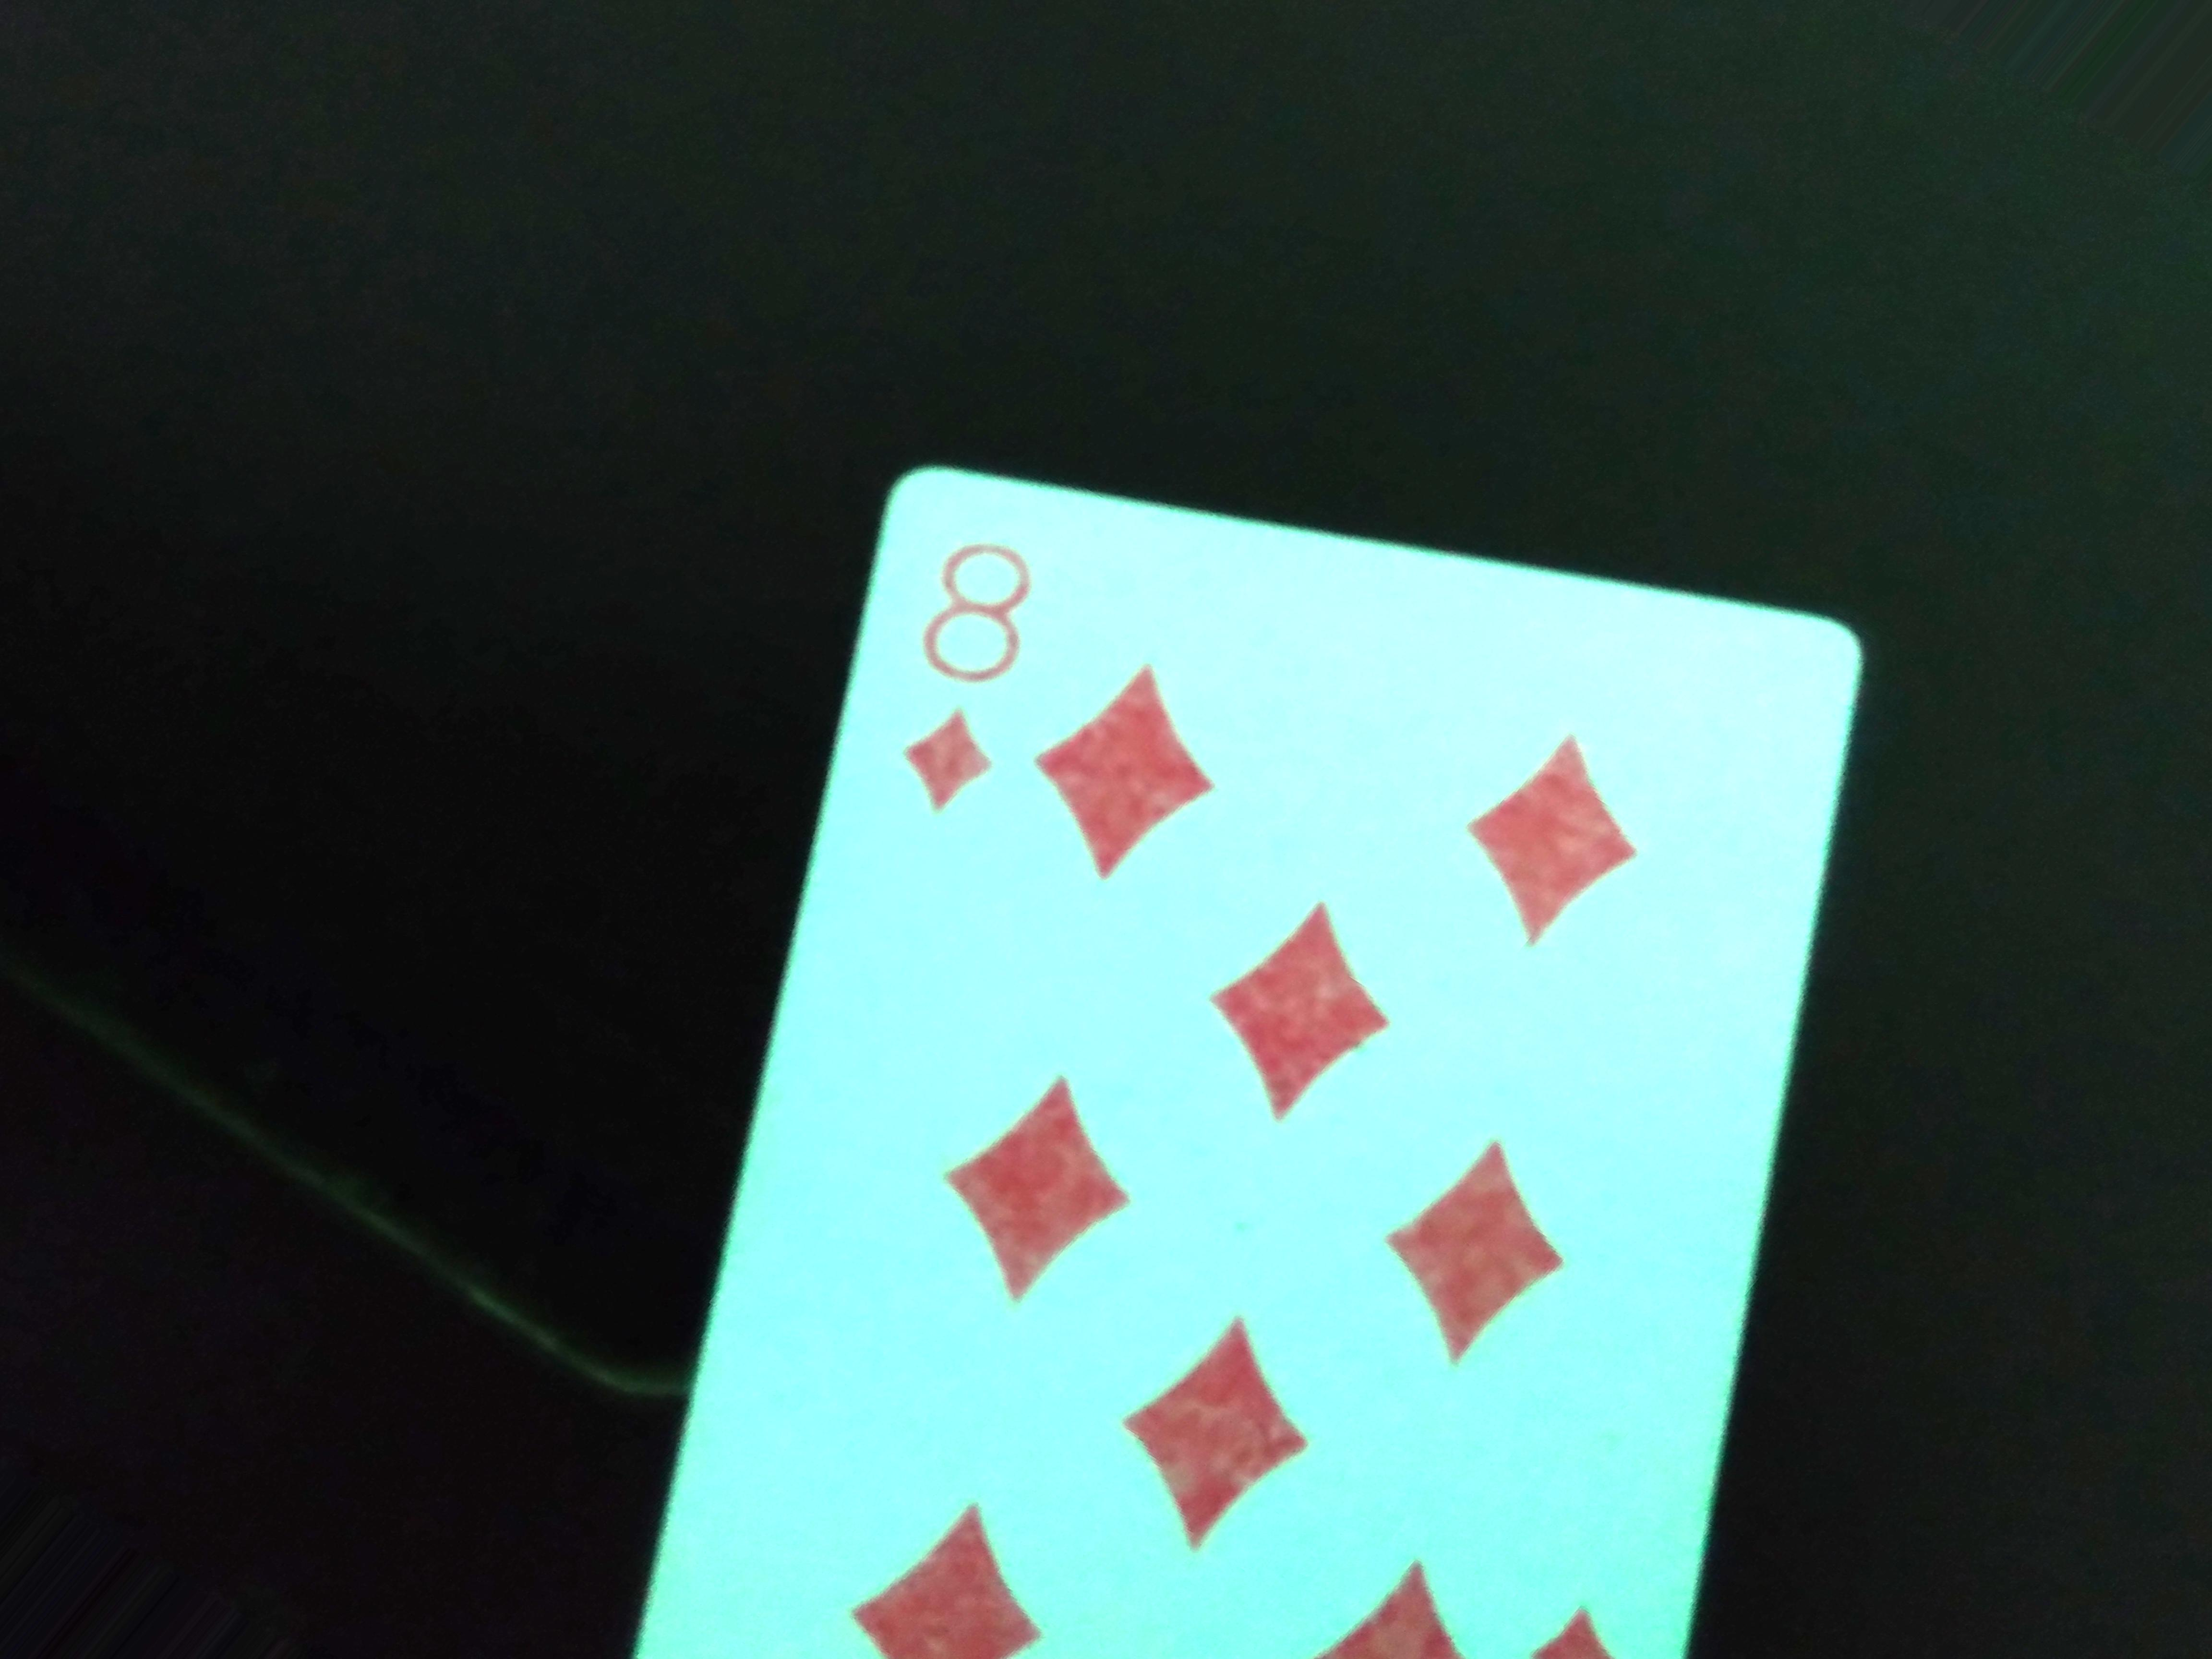8D: (880, 512, 1066, 863)
